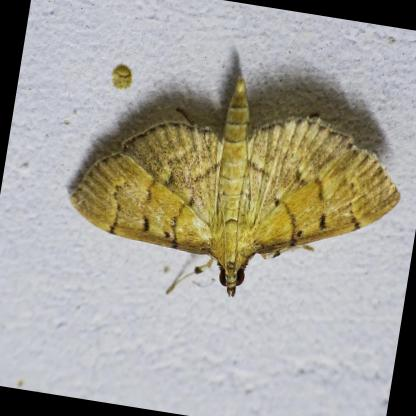Leaf Webber: (63, 70, 405, 302)
